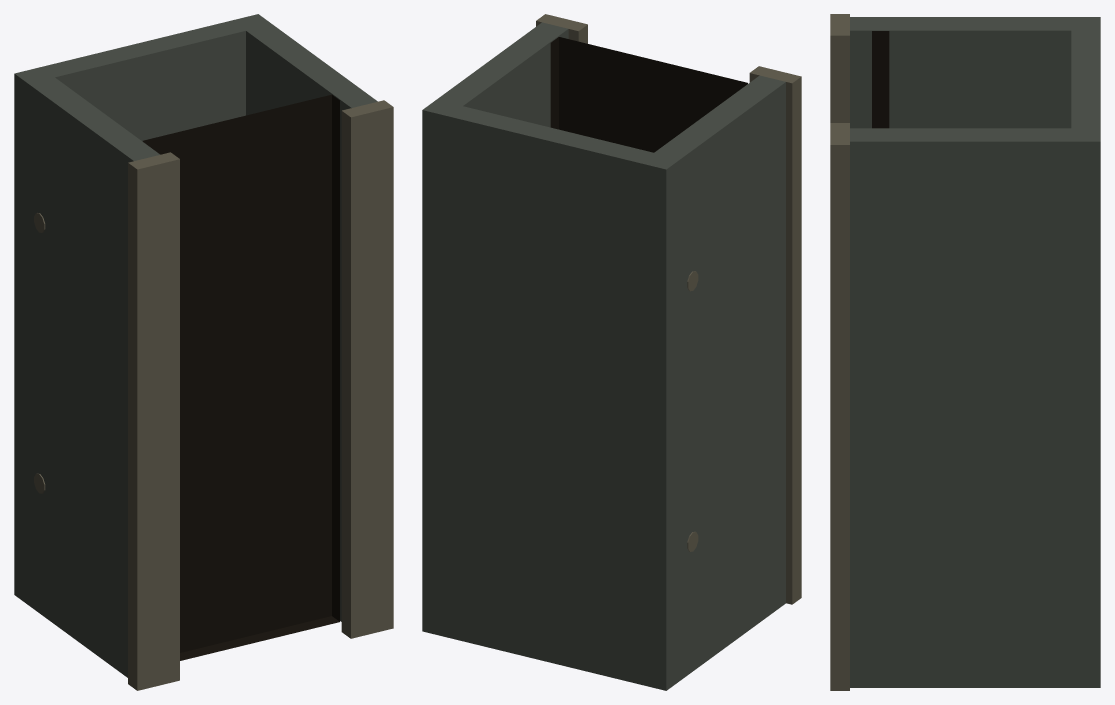
File: VD_TerracePlanter.obj
3 views of the same model, side by side, from view 1: azimuth 30°, elevation 25°; view 2: azimuth 150°, elevation 25°; view 3: azimuth 270°, elevation 25° (orthographic). The views are drawn at different scales.
Parts seen in each view (by area): view 1: VD_TerracePlanter; view 2: VD_TerracePlanter; view 3: VD_TerracePlanter.
Boxes of the visible parts, x1,y1,x2,y2 form: VD_TerracePlanter: (14,14,393,690); VD_TerracePlanter: (422,14,801,690); VD_TerracePlanter: (830,14,1100,690).
Bounding box in the file's own units: 126 × 245 × 110.
